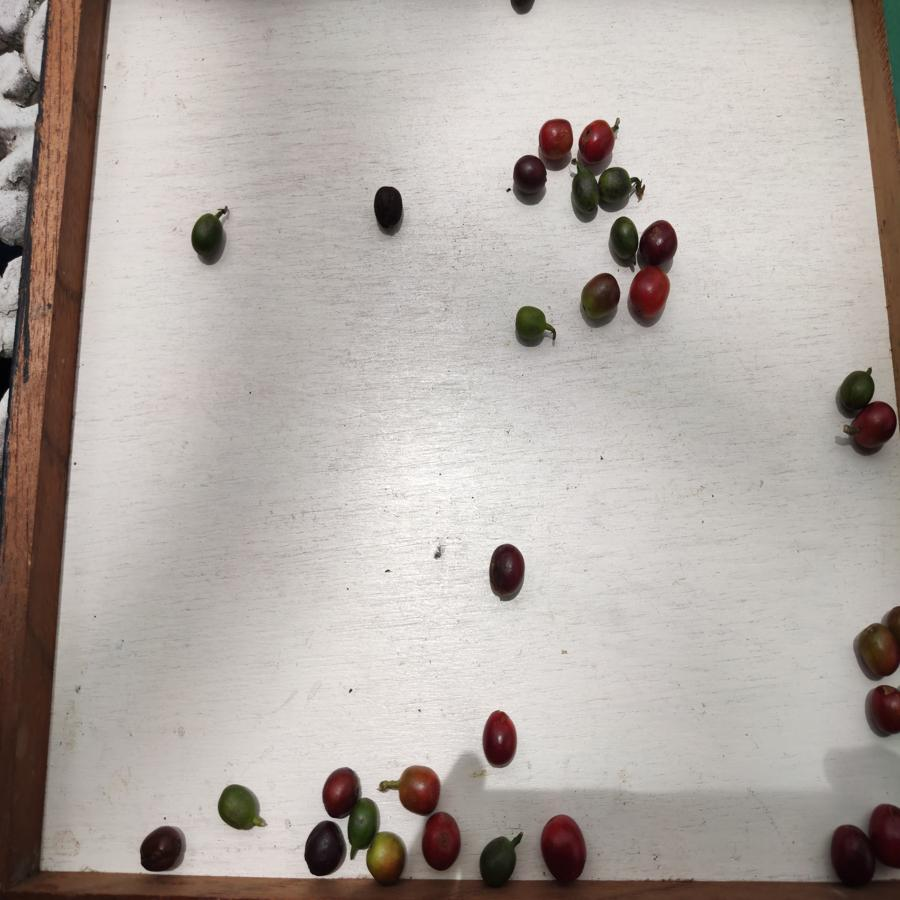Inmaduro: (213, 784, 263, 833), (477, 832, 520, 885), (838, 369, 879, 409), (512, 302, 550, 345), (607, 213, 638, 263), (191, 215, 225, 257), (599, 166, 634, 205), (570, 170, 599, 215), (348, 799, 375, 846)
Maduro: (539, 812, 588, 881), (420, 812, 463, 869), (394, 763, 441, 813), (628, 267, 671, 321), (578, 118, 616, 163), (539, 120, 573, 156)
Pinton: (853, 623, 899, 678), (364, 829, 408, 883), (577, 271, 623, 322)
Sobremaduro: (830, 823, 875, 884), (303, 819, 345, 878), (485, 542, 526, 601), (481, 710, 521, 768), (135, 823, 182, 872), (867, 802, 900, 869), (853, 403, 898, 451), (866, 681, 900, 737), (322, 765, 355, 821), (639, 220, 678, 264), (371, 183, 404, 233), (510, 156, 547, 199)
